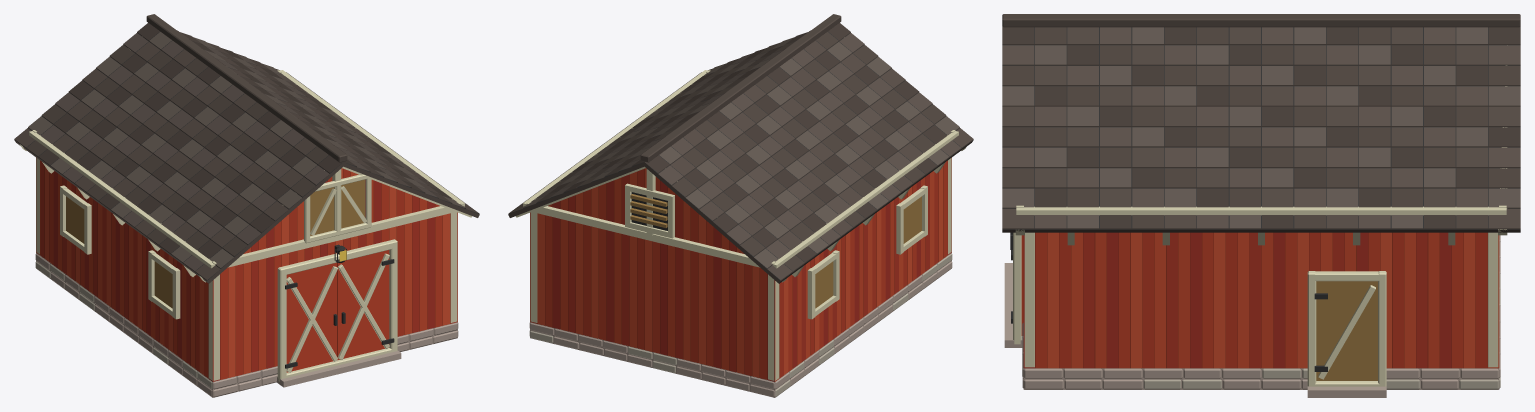
Rendered from Barn_A_High.fbx.
3 views of the same model, side by side, from view 1: azimuth 30°, elevation 25°; view 2: azimuth 150°, elevation 25°; view 3: azimuth 270°, elevation 25° (orthographic). The views are drawn at different scales.
Visible parts, largest first — view 1: Barn_A_High; view 2: Barn_A_High; view 3: Barn_A_High.
Boxes of the visible parts, x1=… form: Barn_A_High: x1=14, y1=14, x2=479, y2=397; Barn_A_High: x1=508, y1=14, x2=973, y2=397; Barn_A_High: x1=1002, y1=14, x2=1520, y2=397.
Size of the model in its own units: 8.9 by 6.8 by 10.9.
